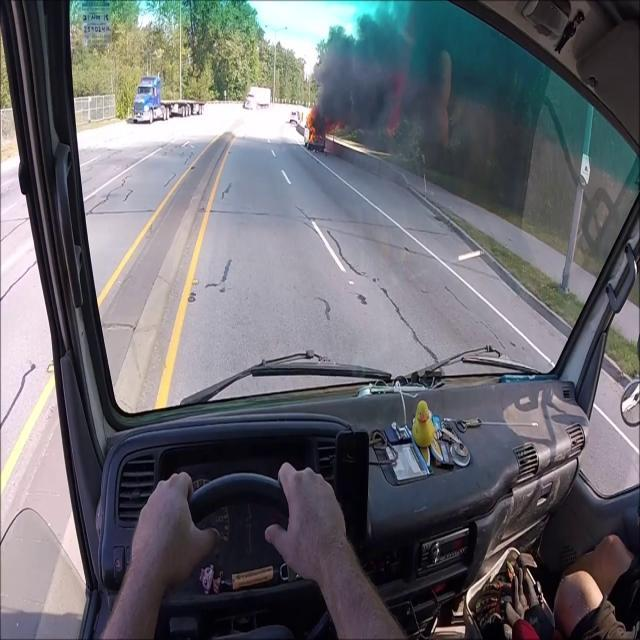Fire: (303, 99, 316, 145)
Smoke: (310, 1, 520, 188)
